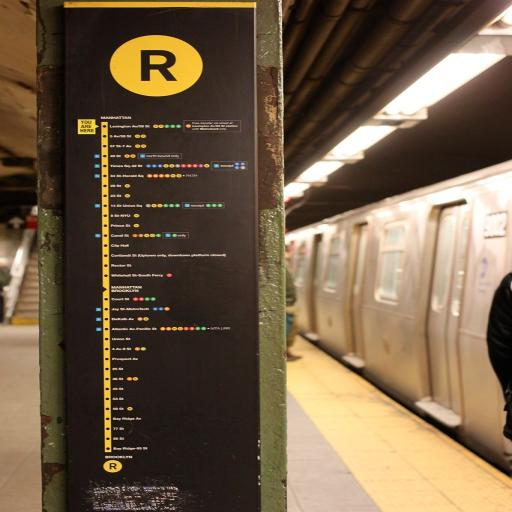platform_edge: (286, 345, 512, 512)
